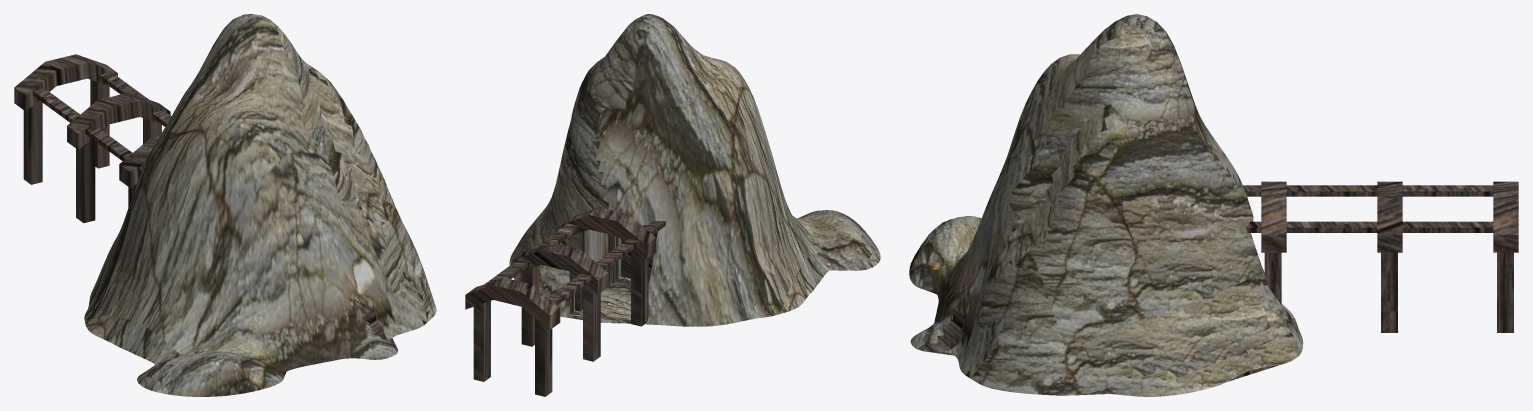
File: Cave_Door.fbx
The picture shows the model from 3 angles, left to right: view 1: azimuth 30°, elevation 25°; view 2: azimuth 150°, elevation 25°; view 3: azimuth 270°, elevation 25°; orthographic projection. The views are drawn at different scales.
Visible parts, largest first — view 1: 平面; view 2: 平面; view 3: 平面.
Boxes of the visible parts, left/top/right/bottom form: 平面: left=14, top=14, right=436, bottom=396; 平面: left=465, top=14, right=880, bottom=396; 平面: left=909, top=14, right=1518, bottom=396.
Size of the model in its own units: 938 by 791 by 1423.
